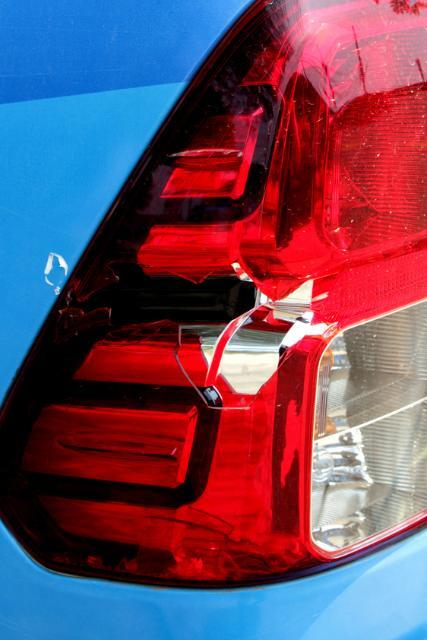Light: (115, 123, 408, 552)
